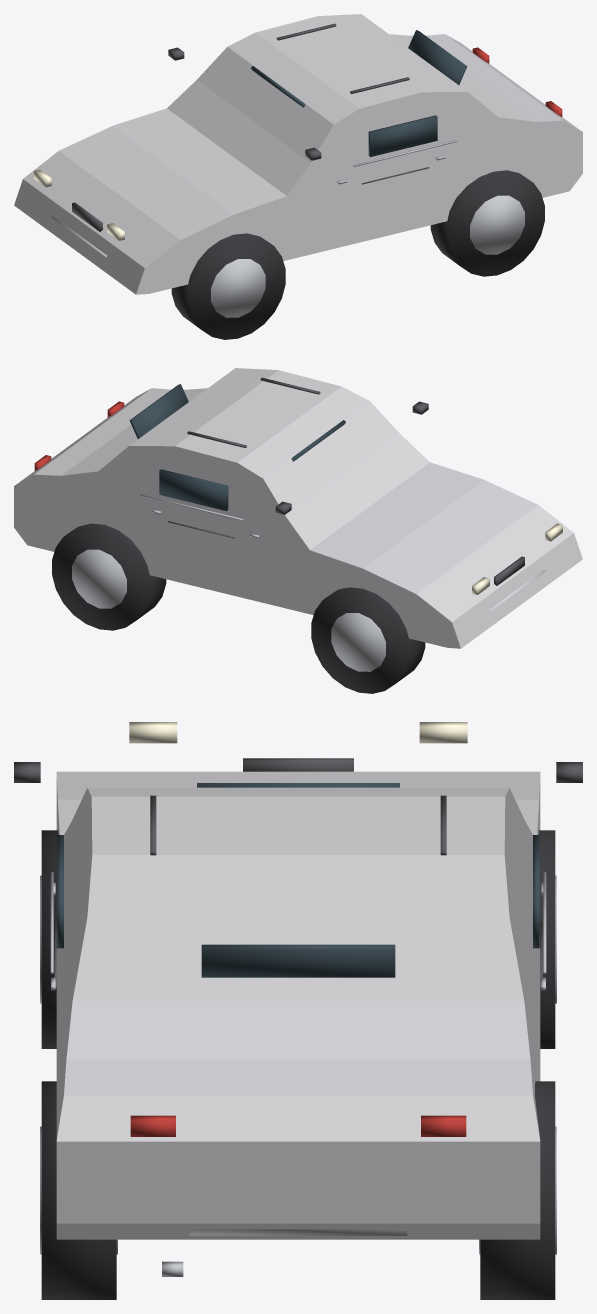
The model's file is compact.glb.
3 views of the same model, one above another, from view 1: azimuth 30°, elevation 25°; view 2: azimuth 150°, elevation 25°; view 3: azimuth 270°, elevation 25° (orthographic). The views are drawn at different scales.
Visible parts, largest first — view 1: body_main, wheel_front_r, wheel_rear_r, trim_rim__rear_r, trim_rim__front_r, glass_side_r, glass_rear; view 2: body_main, wheel_rear_l, wheel_front_l, trim_rim__rear_l, trim_rim__front_l, glass_side_l, glass_rear; view 3: body_main, wheel_rear_l, wheel_rear_r, glass_rear, wheel_front_l, wheel_front_r, trim_grille, body_bumper_rear, headlight_l, headlight_r, glass_windshield, taillight_l (+3 smaller).
Part boxes in pixels (x1,y1,x2,y2): body_main: (14, 14, 582, 294); wheel_front_r: (171, 233, 285, 339); wheel_rear_r: (430, 170, 544, 276); trim_rim__rear_r: (470, 195, 524, 254); trim_rim__front_r: (211, 259, 265, 317); glass_side_r: (368, 115, 437, 156); glass_rear: (408, 30, 467, 84); body_main: (14, 368, 582, 648); wheel_rear_l: (52, 523, 166, 630); wheel_front_l: (311, 587, 425, 693); trim_rim__rear_l: (72, 549, 126, 608); trim_rim__front_l: (331, 613, 385, 671); glass_side_l: (159, 469, 228, 510); glass_rear: (129, 384, 188, 438); body_main: (56, 771, 540, 1239); wheel_rear_l: (480, 1081, 555, 1299); wheel_rear_r: (41, 1081, 116, 1299); glass_rear: (201, 944, 395, 977); wheel_front_l: (538, 830, 555, 1048); wheel_front_r: (41, 830, 58, 1048); trim_grille: (243, 758, 353, 771); body_bumper_rear: (189, 1229, 407, 1235); headlight_l: (419, 722, 467, 743); headlight_r: (129, 722, 177, 743); glass_windshield: (197, 783, 399, 787); taillight_l: (421, 1115, 466, 1136).
Bounding box in the file's own units: 3.89 × 1.58 × 2.14.
